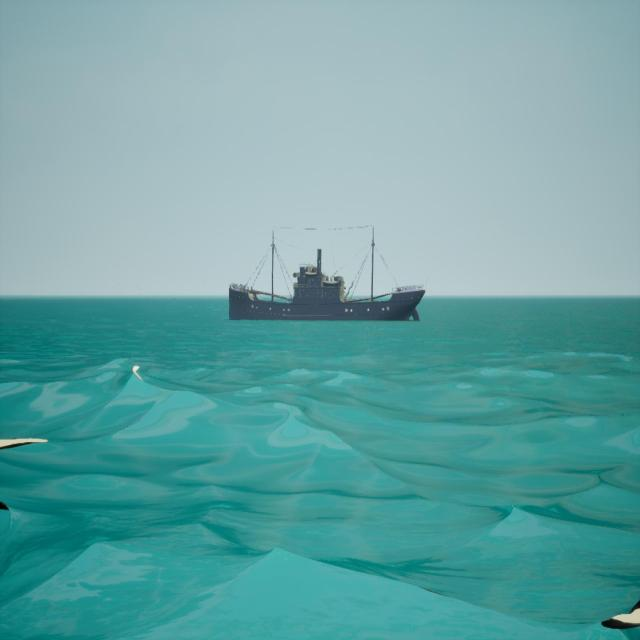fishing ship: (230, 227, 427, 323)
